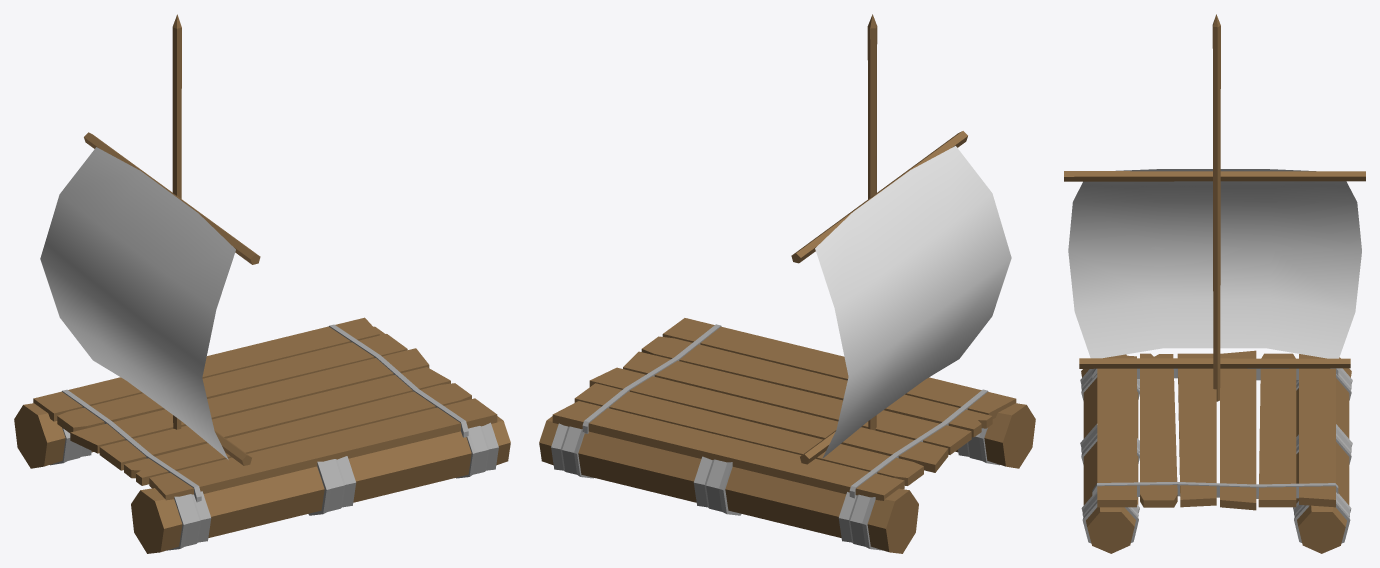
Rendered from raft_02.fbx.
3 renders of one model, left to right at view 1: azimuth 30°, elevation 25°; view 2: azimuth 150°, elevation 25°; view 3: azimuth 270°, elevation 25°, orthographic. The views are drawn at different scales.
Visible parts, largest first — view 1: raft_02; view 2: raft_02; view 3: raft_02.
Part boxes in pixels (x1,y1,x2,y2): raft_02: [14, 14, 510, 553]; raft_02: [539, 14, 1035, 553]; raft_02: [1064, 14, 1365, 553].
Size of the model in its own units: 284 by 369 by 234.
